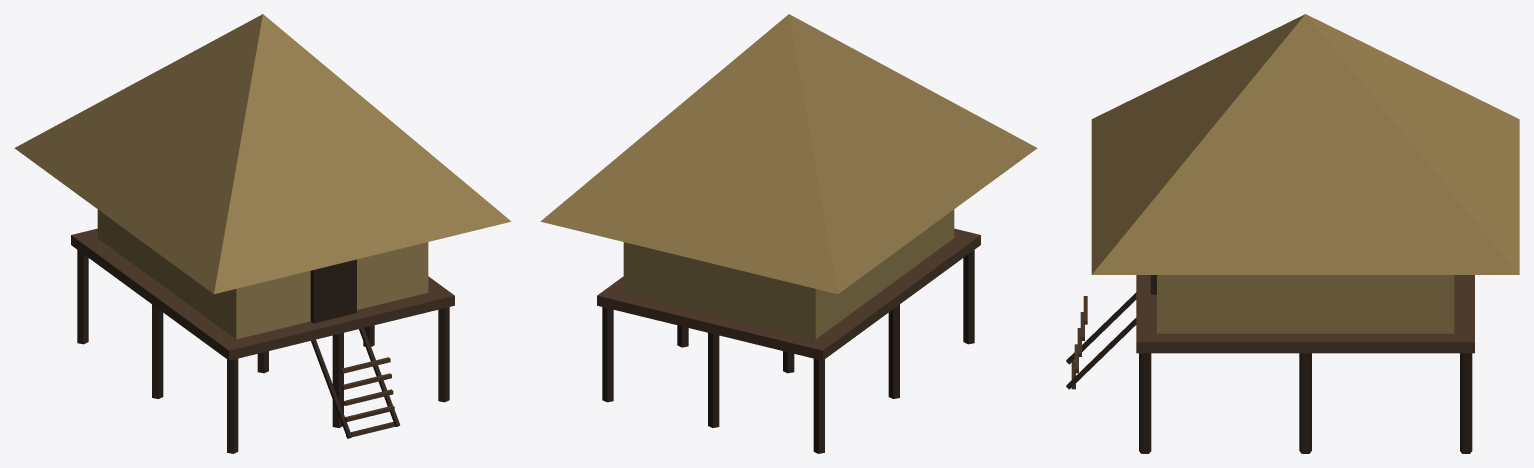
Rendered from tide_hut.glb.
The picture shows the model from 3 angles, left to right: view 1: azimuth 30°, elevation 25°; view 2: azimuth 150°, elevation 25°; view 3: azimuth 270°, elevation 25°; orthographic projection. The views are drawn at different scales.
Visible parts, largest first — view 1: tide_hut; view 2: tide_hut; view 3: tide_hut.
Boxes of the visible parts, <box> form: tide_hut: <box>14,14,511,453</box>; tide_hut: <box>540,14,1037,453</box>; tide_hut: <box>1066,14,1519,453</box>.
Size of the model in its own units: 6.2 by 7.1 by 7.63.
Materials: 1 (1 with a texture image).
